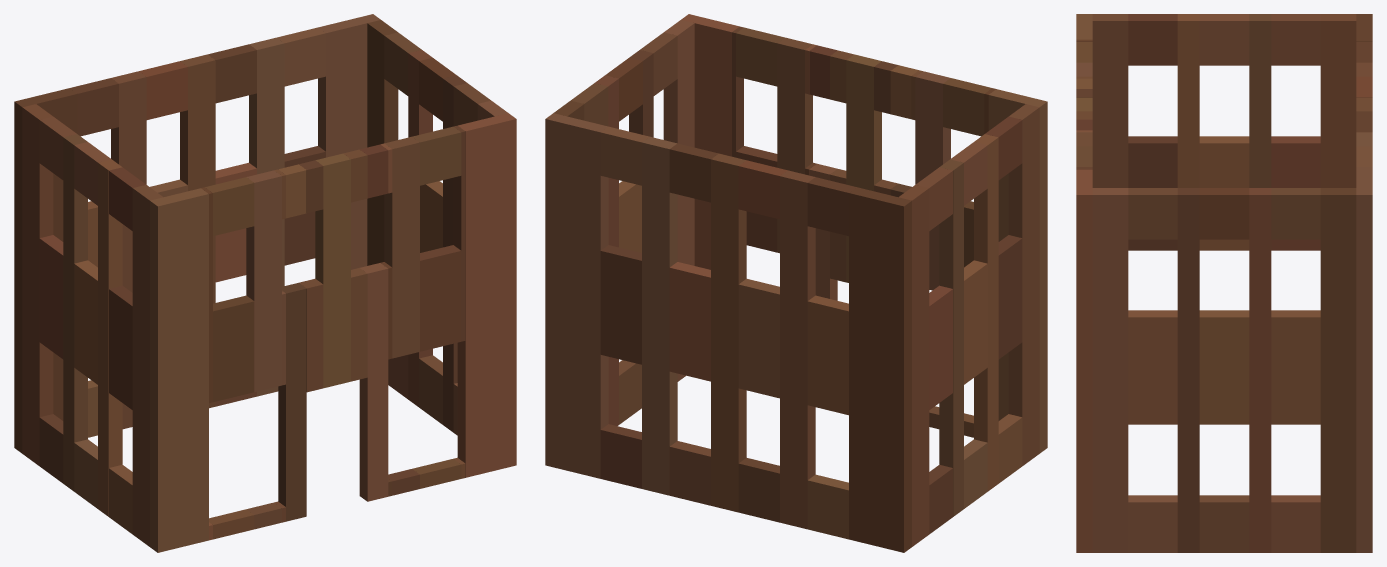
Rendered from Shop_Cocoa_Walls.glb.
The picture shows the model from 3 angles, left to right: view 1: azimuth 30°, elevation 25°; view 2: azimuth 150°, elevation 25°; view 3: azimuth 270°, elevation 25°; orthographic projection. The views are drawn at different scales.
Parts seen in each view (by area): view 1: Shop_Cocoa_Walls; view 2: Shop_Cocoa_Walls; view 3: Shop_Cocoa_Walls.
Boxes of the visible parts, bbox=[...] form: Shop_Cocoa_Walls: bbox=[14, 14, 516, 552]; Shop_Cocoa_Walls: bbox=[545, 14, 1047, 552]; Shop_Cocoa_Walls: bbox=[1076, 14, 1372, 552].
Bounding box in the file's own units: 26 × 24 × 18.
